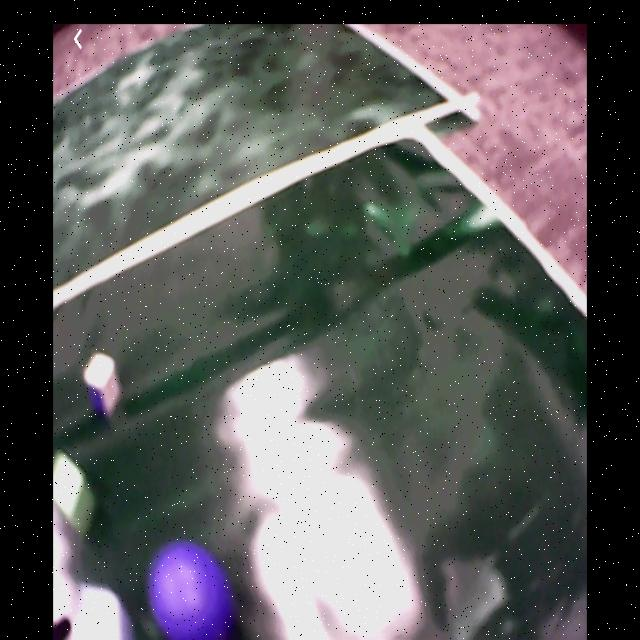ball: (150, 541, 227, 637)
